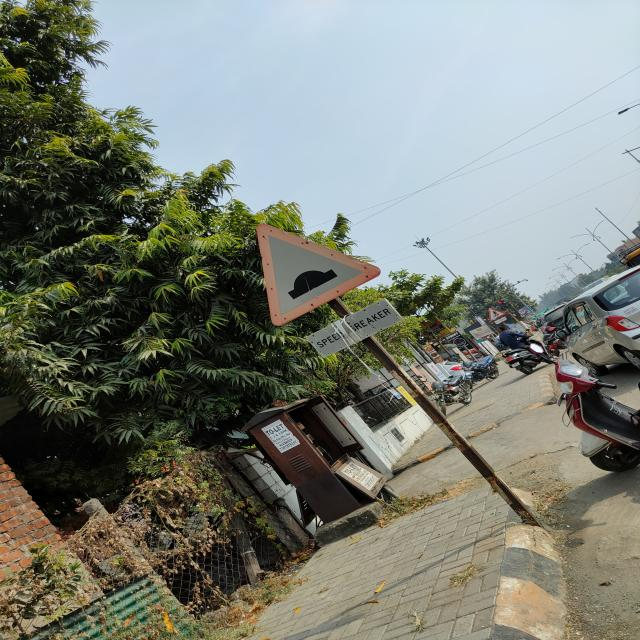HUMP_OR_ROUGH_ROAD: (253, 223, 383, 330)
